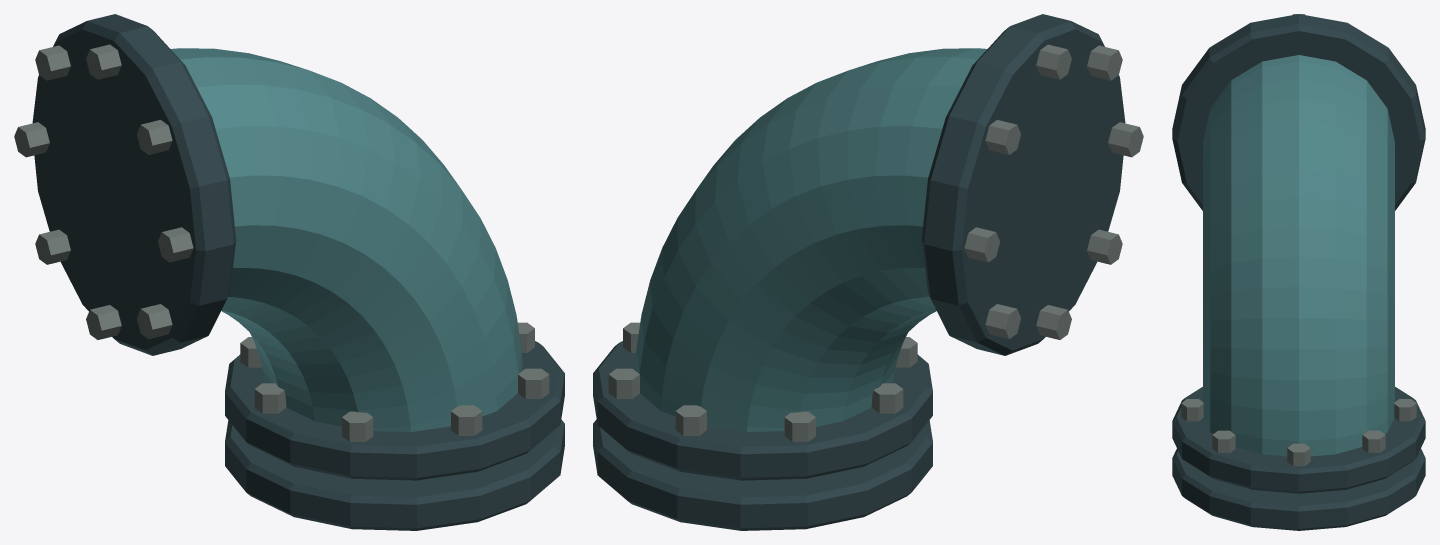
File: pipe-elbow.glb
3 views of the same model, side by side, from view 1: azimuth 30°, elevation 25°; view 2: azimuth 150°, elevation 25°; view 3: azimuth 270°, elevation 25° (orthographic). The views are drawn at different scales.
Parts seen in each view (by area): view 1: pipe-elbow__pipe-elbow__petrol, pipe-elbow__pipe-elbow__steel, pipe-elbow__pipe-elbow__hardware; view 2: pipe-elbow__pipe-elbow__petrol, pipe-elbow__pipe-elbow__steel, pipe-elbow__pipe-elbow__hardware; view 3: pipe-elbow__pipe-elbow__petrol, pipe-elbow__pipe-elbow__steel, pipe-elbow__pipe-elbow__hardware.
Boxes of the visible parts, x1,y1,x2,y2 form: pipe-elbow__pipe-elbow__petrol: (171, 48, 522, 431); pipe-elbow__pipe-elbow__steel: (32, 14, 564, 530); pipe-elbow__pipe-elbow__hardware: (14, 44, 549, 441); pipe-elbow__pipe-elbow__petrol: (635, 48, 986, 431); pipe-elbow__pipe-elbow__steel: (593, 14, 1125, 530); pipe-elbow__pipe-elbow__hardware: (608, 44, 1143, 441); pipe-elbow__pipe-elbow__petrol: (1203, 55, 1394, 456); pipe-elbow__pipe-elbow__steel: (1172, 14, 1425, 530); pipe-elbow__pipe-elbow__hardware: (1181, 14, 1416, 466).
Size of the model in its own units: 1.12 by 1.18 by 0.74.
